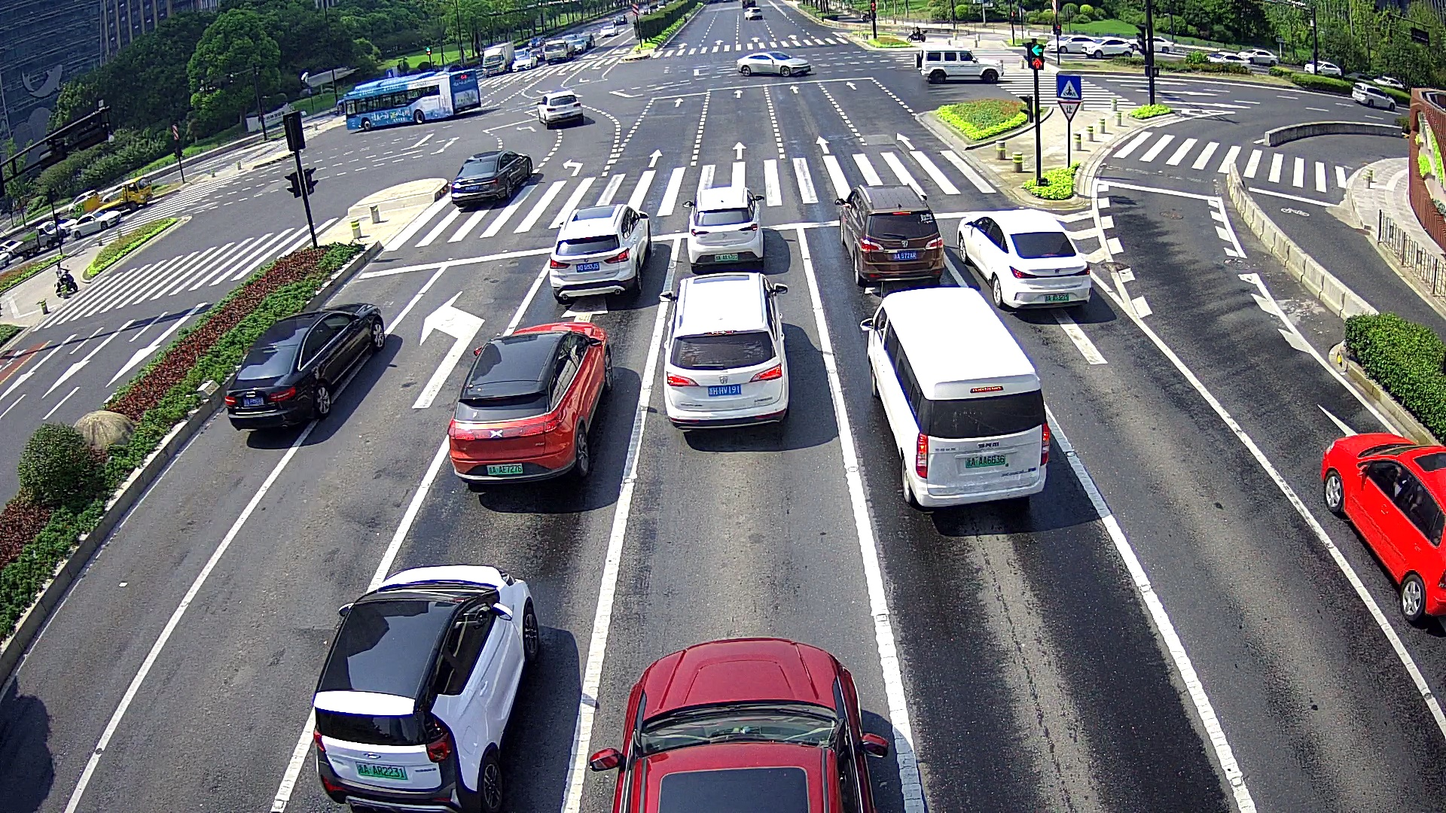vehicle: (310, 559, 545, 810), (586, 632, 892, 811), (858, 282, 1049, 508), (446, 318, 617, 489), (1318, 424, 1443, 622), (220, 300, 392, 433), (657, 269, 791, 436), (952, 209, 1094, 311), (831, 181, 945, 285), (544, 200, 652, 304), (334, 66, 484, 132), (682, 184, 768, 265), (449, 150, 535, 215), (907, 45, 1007, 86), (734, 43, 809, 79), (532, 89, 581, 128), (68, 207, 121, 235)
